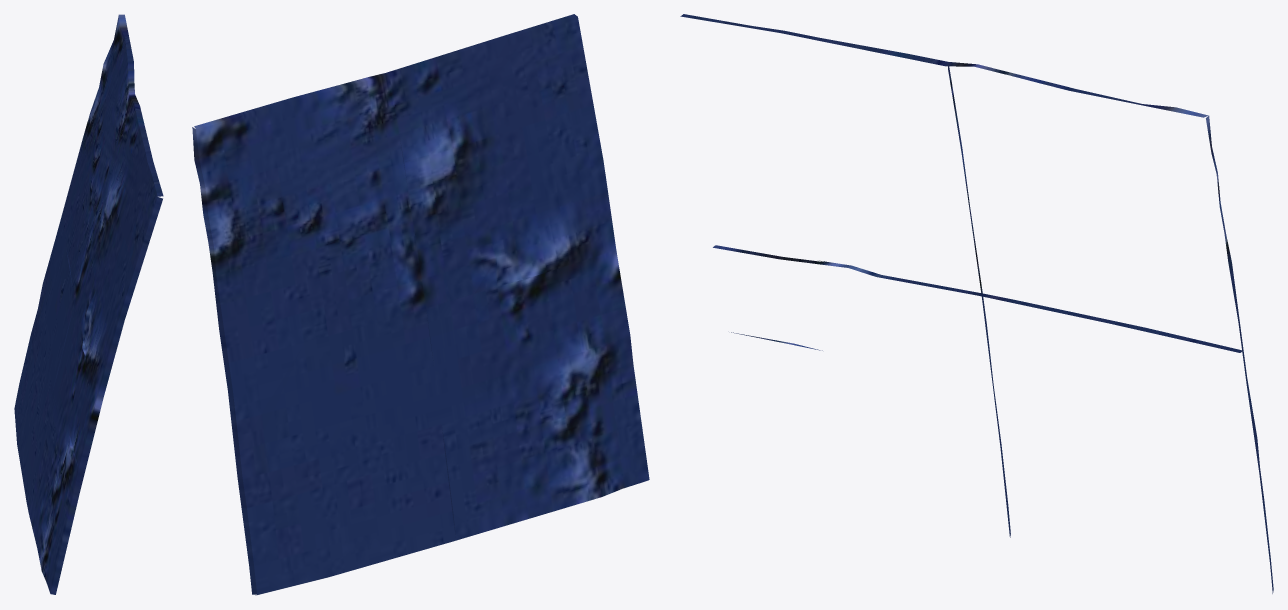
The picture shows the model from 3 angles, left to right: view 1: azimuth 30°, elevation 25°; view 2: azimuth 150°, elevation 25°; view 3: azimuth 270°, elevation 25°; orthographic projection. The views are drawn at different scales.
Size of the model in its own units: 400734 by 613356 by 620050.
1 material, 1 textured.
